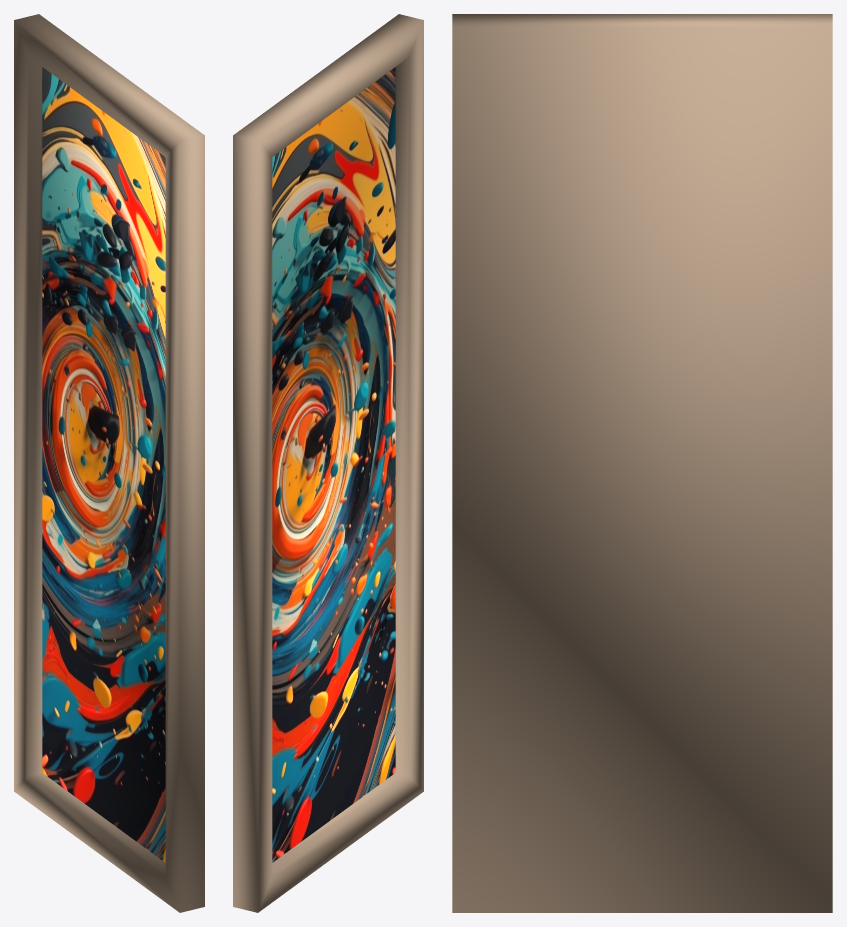
File: DecorC.glb
The picture shows the model from 3 angles, left to right: view 1: azimuth 30°, elevation 25°; view 2: azimuth 150°, elevation 25°; view 3: azimuth 270°, elevation 25°; orthographic projection. The views are drawn at different scales.
Parts seen in each view (by area): view 1: Cube.006; view 2: Cube.006; view 3: Cube.006.
Boxes of the visible parts, x1=… form: Cube.006: x1=14, y1=14, x2=204, y2=912; Cube.006: x1=233, y1=14, x2=423, y2=912; Cube.006: x1=452, y1=14, x2=832, y2=912.
Size of the model in its own units: 0.1 by 2.95 by 1.15.
Materials: 2 (1 with a texture image).
